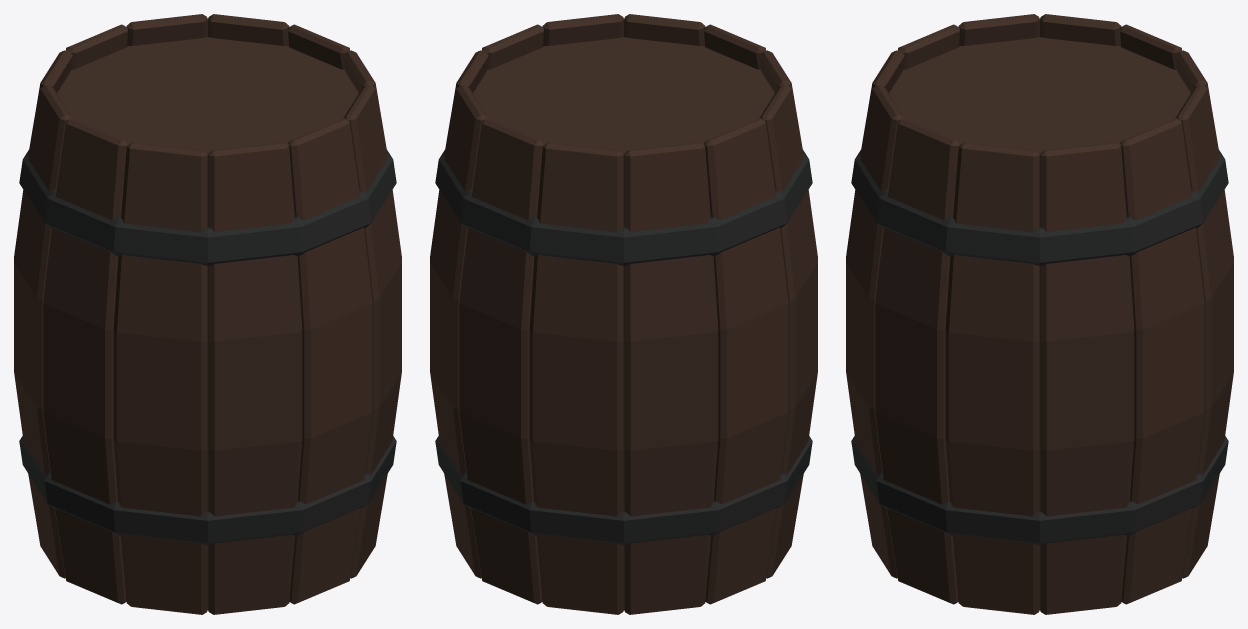
File: Barel.fbx
The picture shows the model from 3 angles, left to right: view 1: azimuth 30°, elevation 25°; view 2: azimuth 150°, elevation 25°; view 3: azimuth 270°, elevation 25°; orthographic projection.
Visible parts, largest first — view 1: barel; view 2: barel; view 3: barel.
Part boxes in pixels (x1,y1,x2,y2): barel: (14, 14, 401, 614); barel: (430, 14, 817, 614); barel: (846, 14, 1233, 614).
Bounding box in the file's own units: 0.7585 × 1 × 0.7585.
